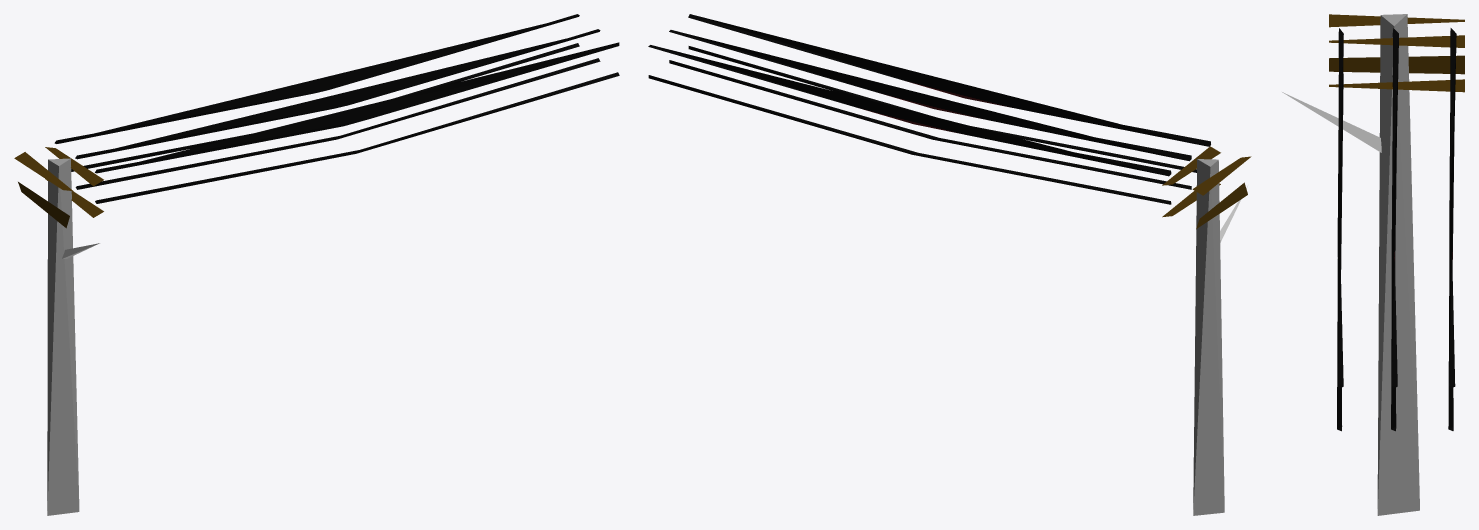
File: PosteDeLuzFiosLadoDireitoLOD2.fbx
3 renders of one model, left to right at view 1: azimuth 30°, elevation 25°; view 2: azimuth 150°, elevation 25°; view 3: azimuth 270°, elevation 25°, orthographic. The views are drawn at different scales.
Parts seen in each view (by area): view 1: PosteDeLuzFiosLadoDireitoLOD2; view 2: PosteDeLuzFiosLadoDireitoLOD2; view 3: PosteDeLuzFiosLadoDireitoLOD2.
Part boxes in pixels (x1,y1,x2,y2): PosteDeLuzFiosLadoDireitoLOD2: [14, 14, 619, 515]; PosteDeLuzFiosLadoDireitoLOD2: [648, 14, 1251, 515]; PosteDeLuzFiosLadoDireitoLOD2: [1282, 14, 1464, 515].
Size of the model in its own units: 1215 by 729 by 249.
